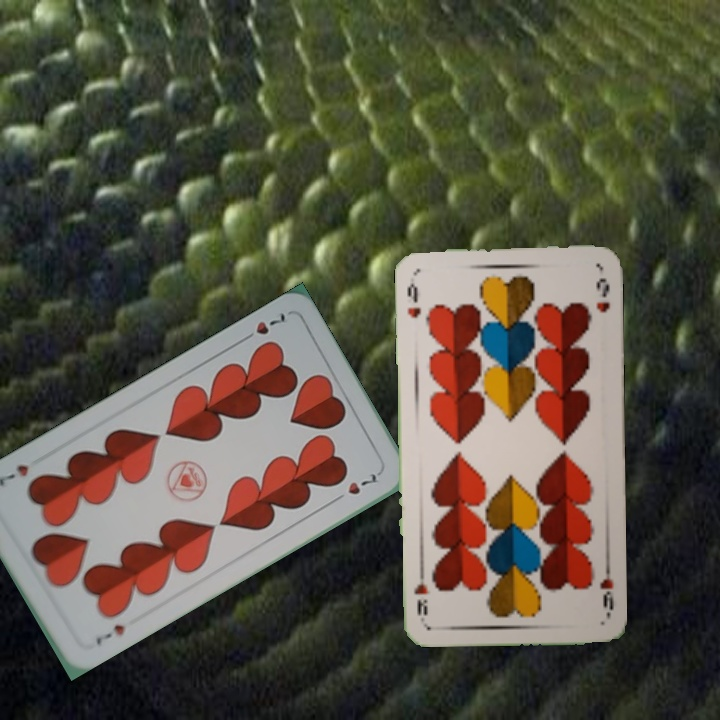H7: (237, 308, 291, 345), (91, 620, 128, 648)
H9: (596, 559, 616, 618), (404, 279, 424, 321)
